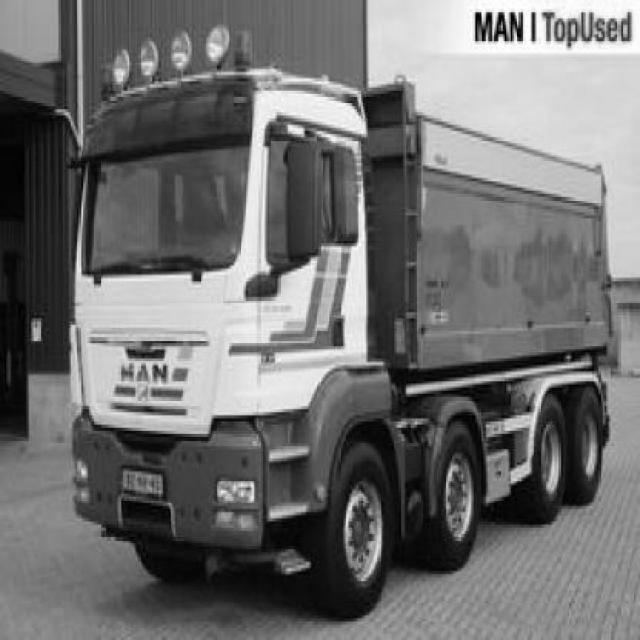Box Truck: (68, 20, 611, 622)
